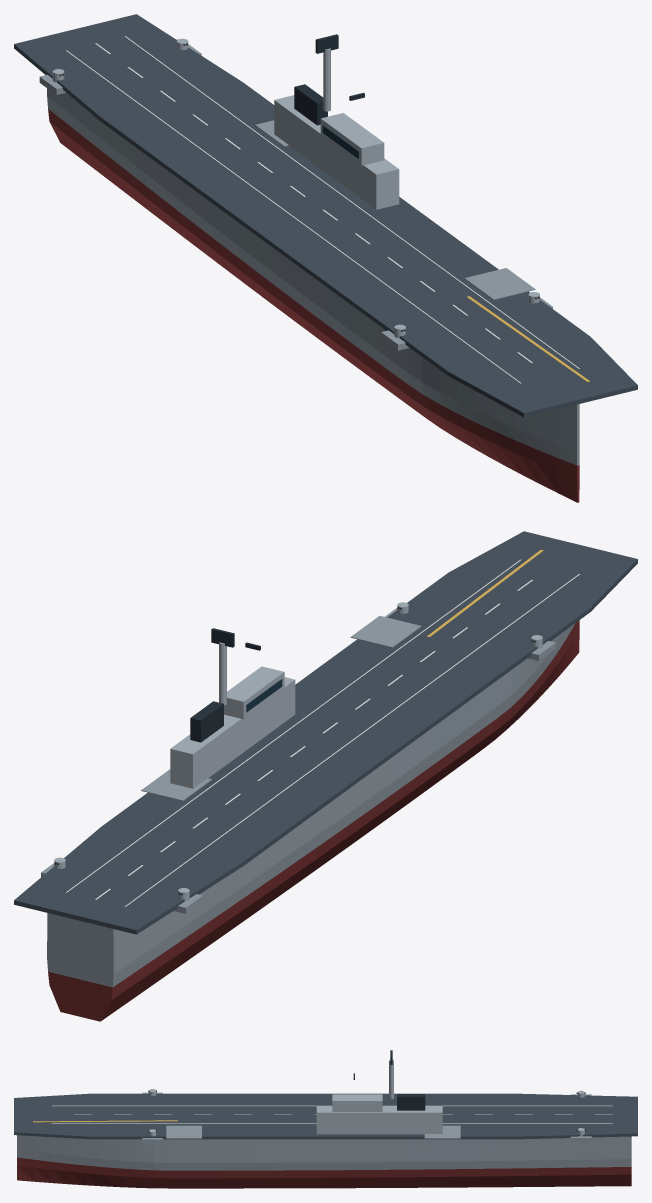
File: ran_cvl_melbourne_1952.obj
3 views of the same model, one above another, from view 1: azimuth 30°, elevation 25°; view 2: azimuth 150°, elevation 25°; view 3: azimuth 270°, elevation 25° (orthographic). The views are drawn at different scales.
Parts seen in each view (by area): view 1: FlightDeck, Hull, UnderwaterHull, Island, Bridge, Elevator_1, Funnel, LandingEdge_-1, LandingEdge_1; view 2: FlightDeck, Hull, UnderwaterHull, Island, Bridge, Elevator_1, Funnel, Elevator_2, LandingEdge_-1, LandingEdge_1; view 3: FlightDeck, Hull, UnderwaterHull, Island, Bridge, LandingEdge_-1, Elevator_1, Funnel, LandingEdge_1, Elevator_2, Catapult_1.
Boxes of the visible parts, box(x1,y1,x2,y2) form: FlightDeck: box(14, 14, 637, 417); Hull: box(47, 88, 579, 465); UnderwaterHull: box(48, 109, 579, 502); Island: box(274, 95, 399, 209); Bridge: box(320, 113, 384, 165); Elevator_1: box(464, 268, 535, 299); Funnel: box(294, 84, 327, 125); LandingEdge_-1: box(66, 50, 521, 383); LandingEdge_1: box(125, 36, 579, 368); FlightDeck: box(14, 531, 637, 934); Hull: box(47, 623, 575, 987); UnderwaterHull: box(48, 620, 579, 1021); Island: box(170, 677, 295, 788); Bridge: box(224, 666, 284, 719); Elevator_1: box(350, 615, 421, 647); Funnel: box(190, 701, 223, 742); Elevator_2: box(141, 769, 211, 800); LandingEdge_-1: box(124, 574, 579, 906); LandingEdge_1: box(66, 559, 520, 892); FlightDeck: box(14, 1093, 637, 1139); Hull: box(17, 1135, 631, 1170); UnderwaterHull: box(17, 1157, 631, 1188); Island: box(316, 1105, 442, 1134); Bridge: box(332, 1094, 382, 1111); LandingEdge_-1: box(52, 1105, 612, 1106); Elevator_1: box(166, 1125, 201, 1138); Funnel: box(397, 1094, 425, 1110); LandingEdge_1: box(51, 1123, 612, 1123); Elevator_2: box(424, 1125, 460, 1138); Catapult_1: box(33, 1120, 177, 1122).
Size of the model in its own units: 37.42 by 53 by 209.
